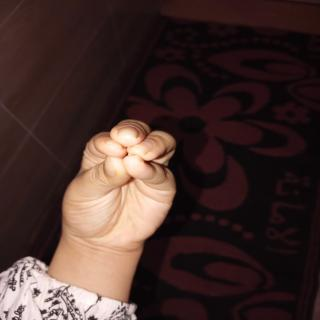HA: (57, 112, 198, 253)
